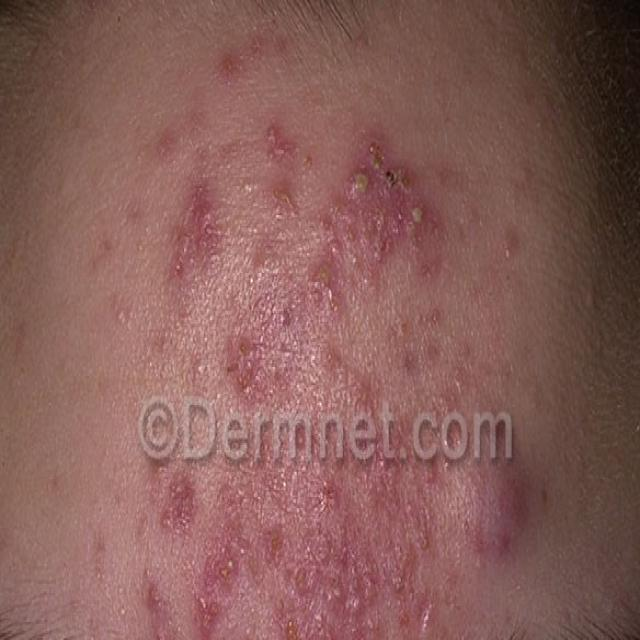Acne: (105, 30, 539, 640)
